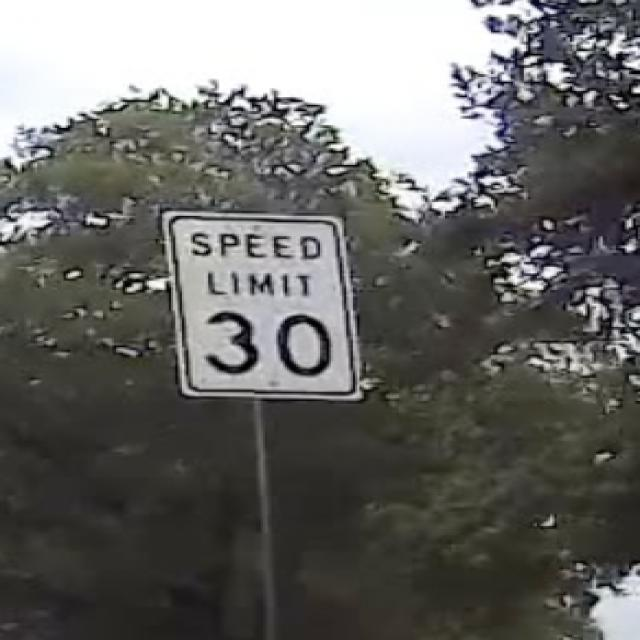speedLimit30: (149, 199, 384, 411)
